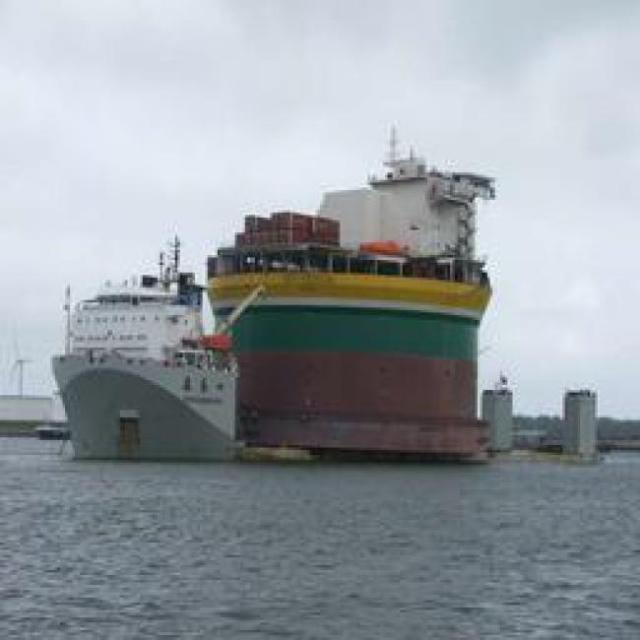boat: (42, 261, 248, 464)
